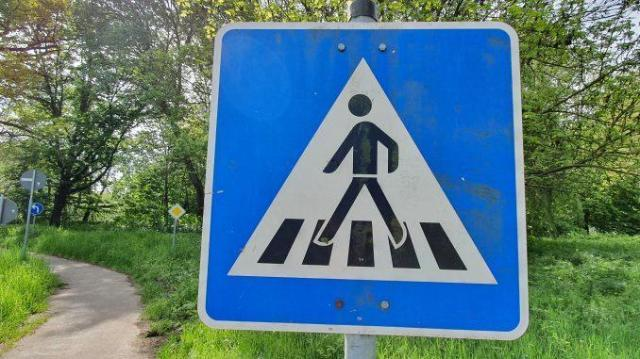crosswalk-sign: (197, 22, 529, 342)
